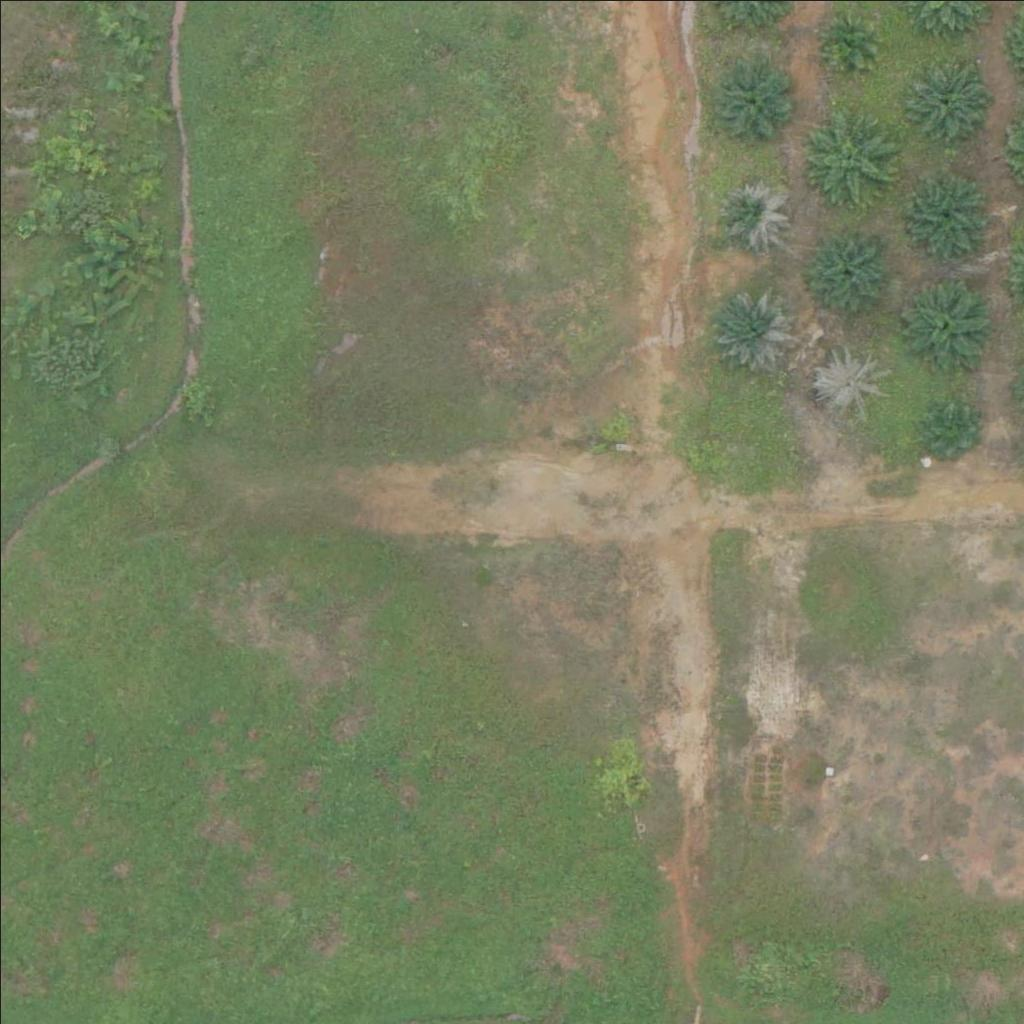Kelapa_Sawit: (893, 273, 993, 373), (794, 219, 894, 319), (794, 105, 894, 205), (710, 283, 798, 371), (708, 53, 796, 141), (901, 168, 988, 256), (902, 52, 989, 140), (812, 344, 887, 420), (711, 174, 786, 250), (816, 7, 879, 70), (921, 398, 983, 460)
